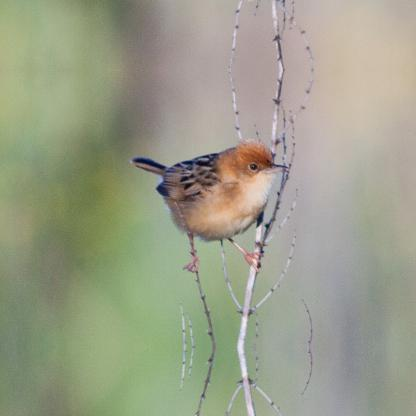Bird: (130, 144, 284, 282)
